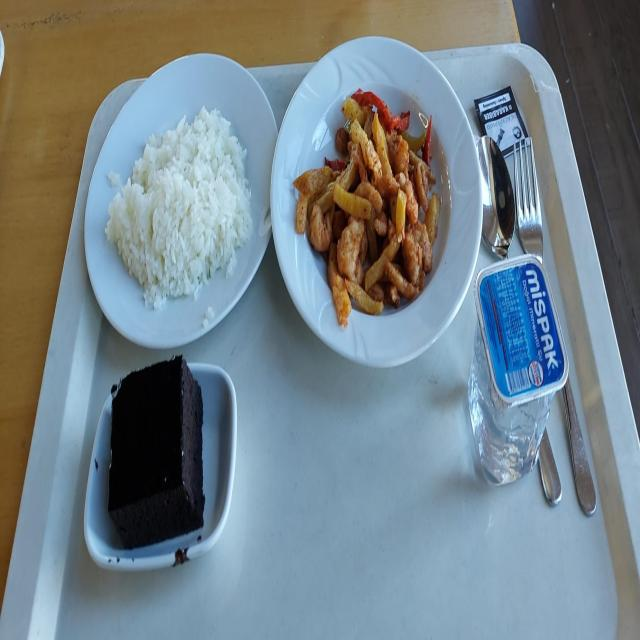ana_yemek: (276, 36, 467, 374), (85, 53, 274, 349)
yan_yemek: (85, 362, 236, 575)
